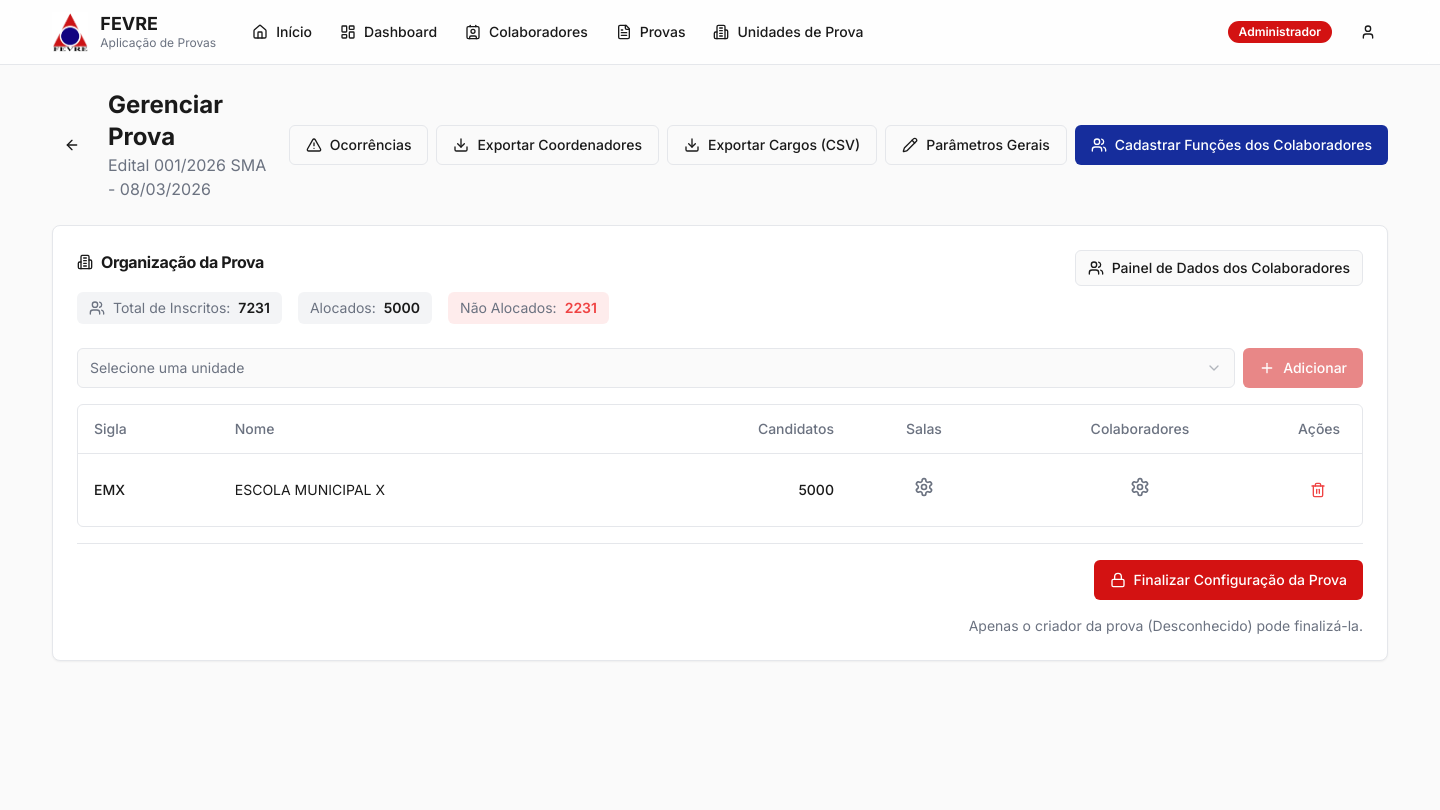
Test: GerenciarProva — painel de alocação (interação) › 🔵 o seletor de unidades mostra a capacidade do cadastro › 🔴 consulta que FALHA não acusa as unidades de estarem vazias
Click the dropdown at (167, 368), box [77, 348, 1235, 388]
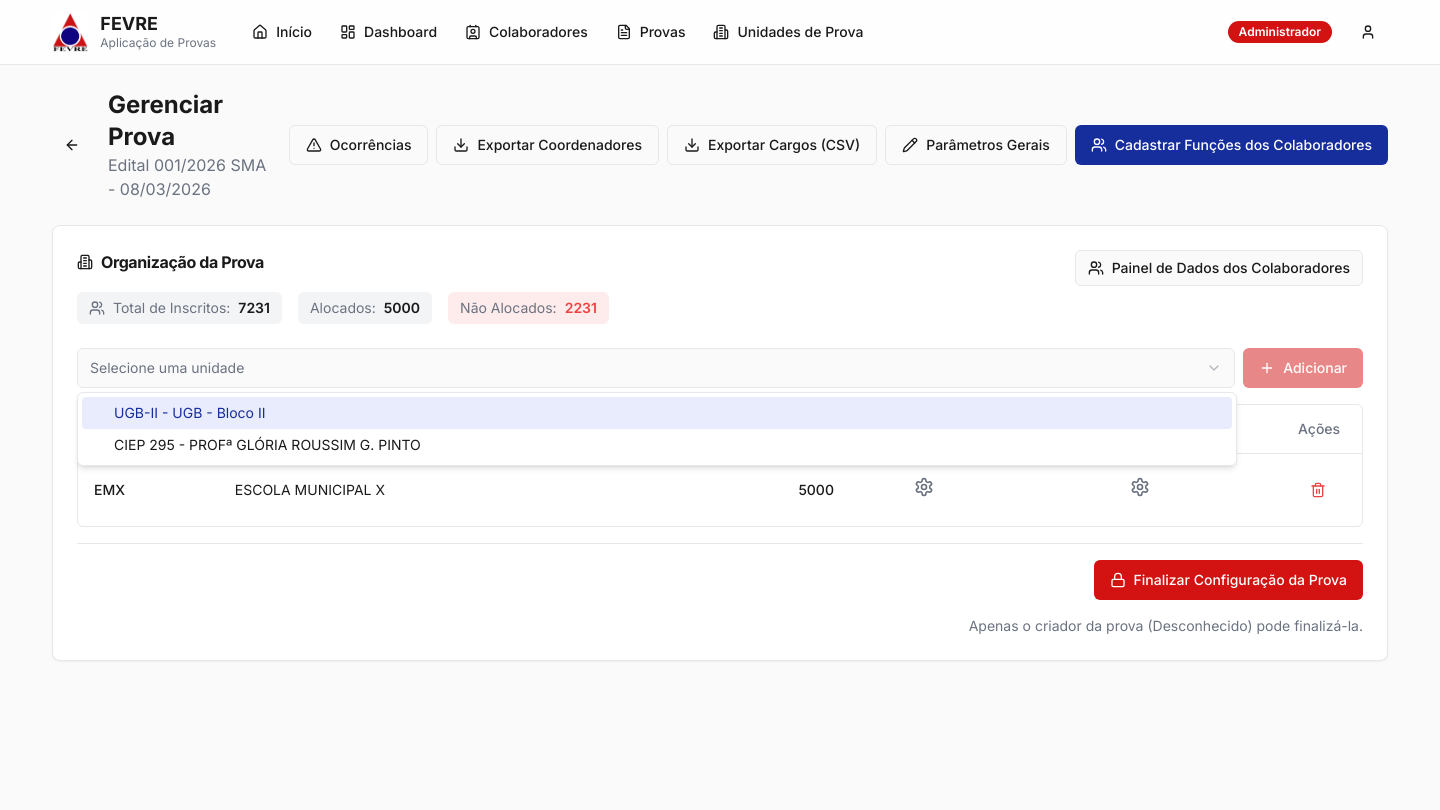
Now the options read "UGB-II - UGB - Bloco II", "CIEP 295 - PROFª GLÓRIA ROUSSIM G. PINTO", in this order, box [82, 397, 1232, 429]; [114, 436, 421, 453]
